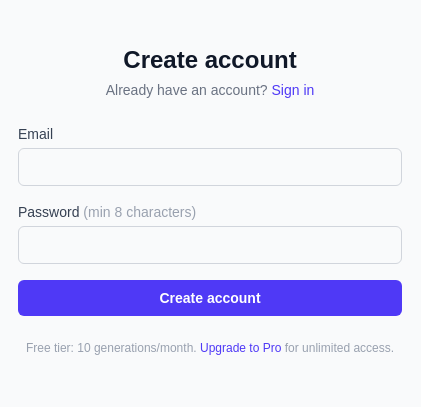
Scenario: RegisterPage › shows client-side validation error for short password
Type "user@example.com" into the field labelled "Email" at (210,167), box x1=18 y1=148 x2=402 y2=186
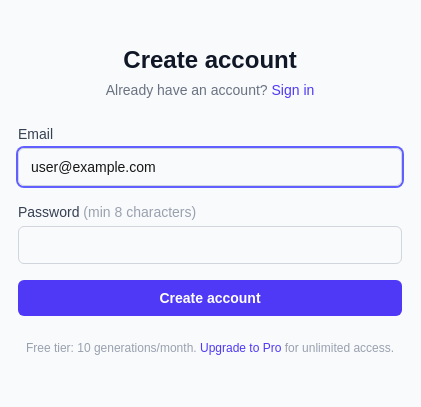
Type "short" into the password field labelled "Password (min 8 characters)" at (210,245), box x1=18 y1=226 x2=402 y2=264
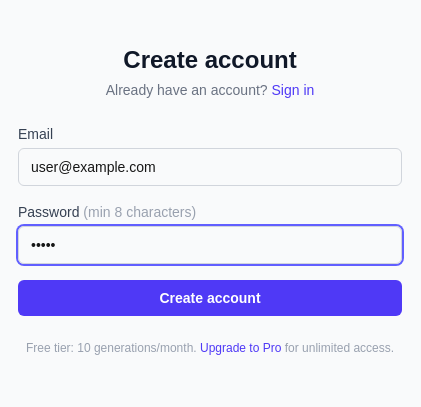
Click the button "Create account" at (210,298), box x1=18 y1=280 x2=402 y2=316
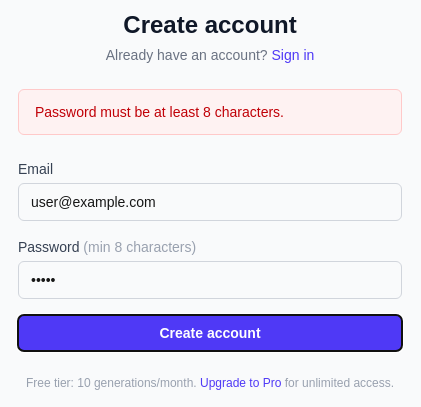
Now the text "Password must be at least 8 characters." is shown, box x1=18 y1=89 x2=402 y2=135
